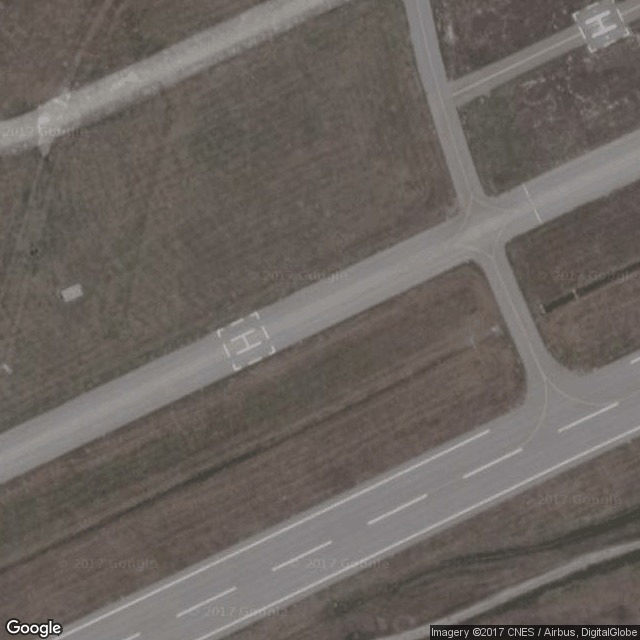heliport: (579, 7, 624, 45), (224, 326, 264, 356)
